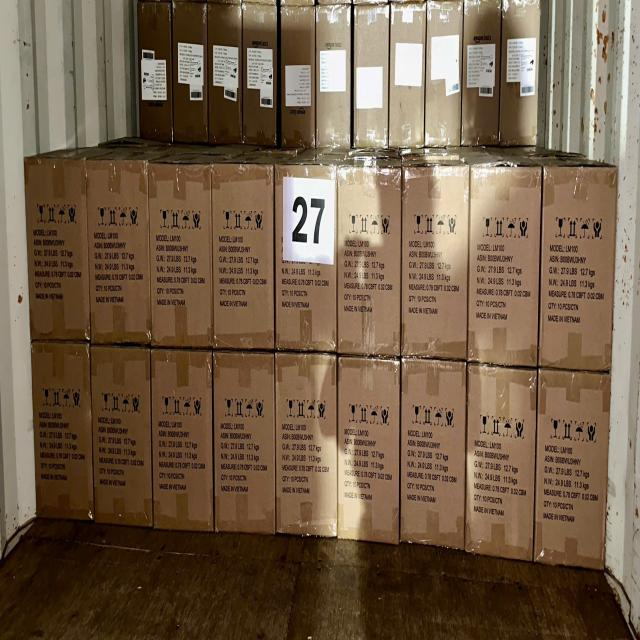Carton: (538, 164, 616, 373), (534, 364, 608, 570), (463, 165, 538, 368), (461, 358, 534, 562), (402, 168, 471, 364), (88, 158, 158, 347), (22, 157, 92, 345), (145, 162, 214, 352), (401, 354, 468, 548), (272, 351, 338, 542), (341, 172, 408, 356), (148, 346, 214, 532), (216, 349, 282, 535), (215, 165, 280, 353), (342, 357, 406, 546), (275, 167, 339, 354), (93, 343, 157, 528), (29, 340, 93, 520)
